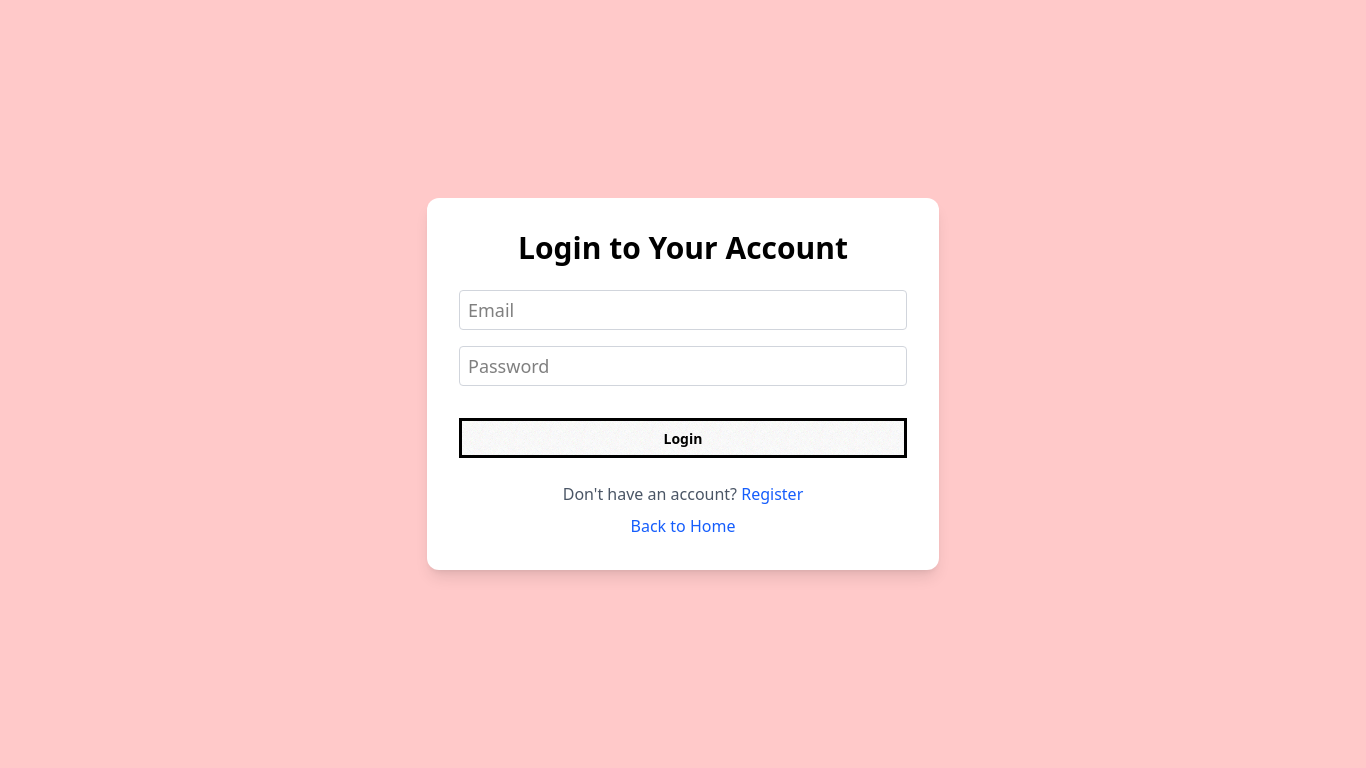
Login Page with API Intercepts › logs in successfully with valid credentials
Type "testuser@example.com" into the field with placeholder "Email" at (683, 310), box [459,290,907,330]
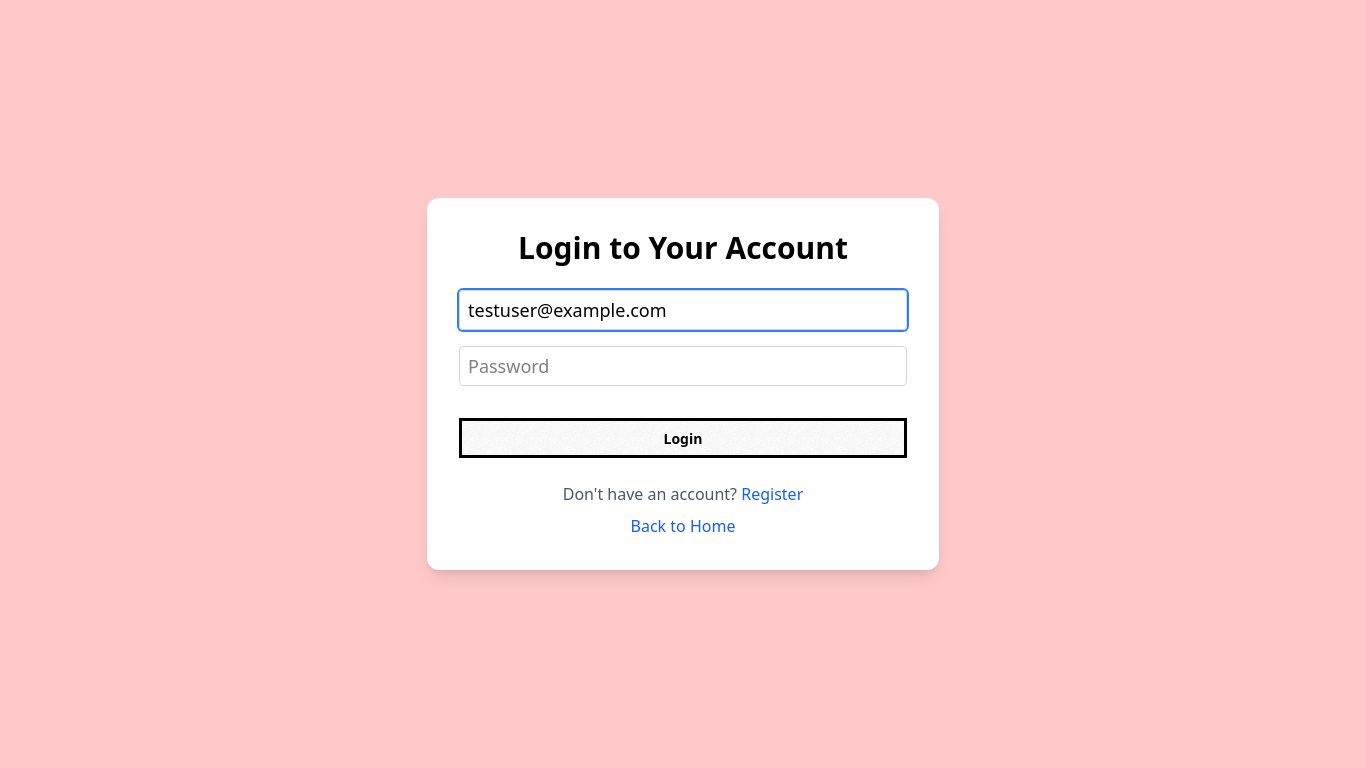
Type "password123" into the password field with placeholder "Password" at (683, 366), box [459,346,907,386]
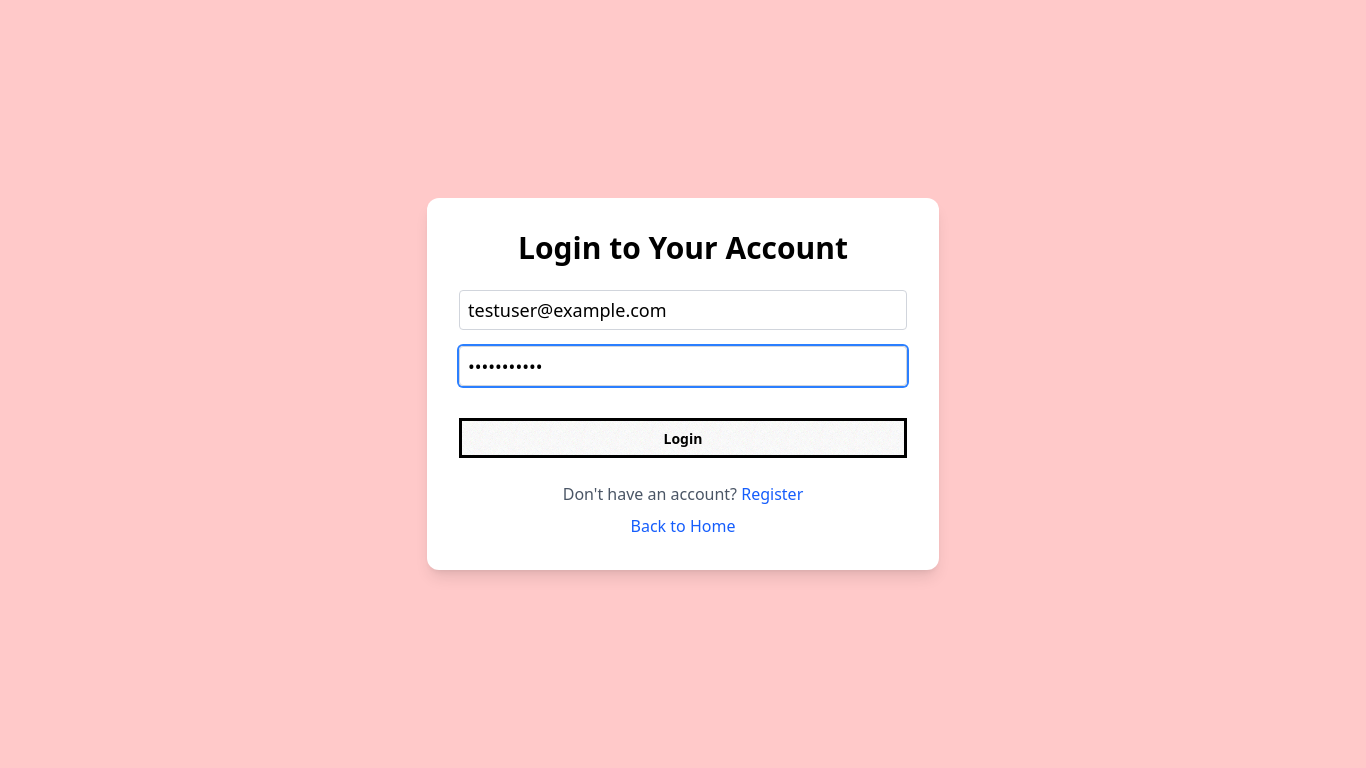
Click the submit button at (683, 438), box [459,418,907,458]
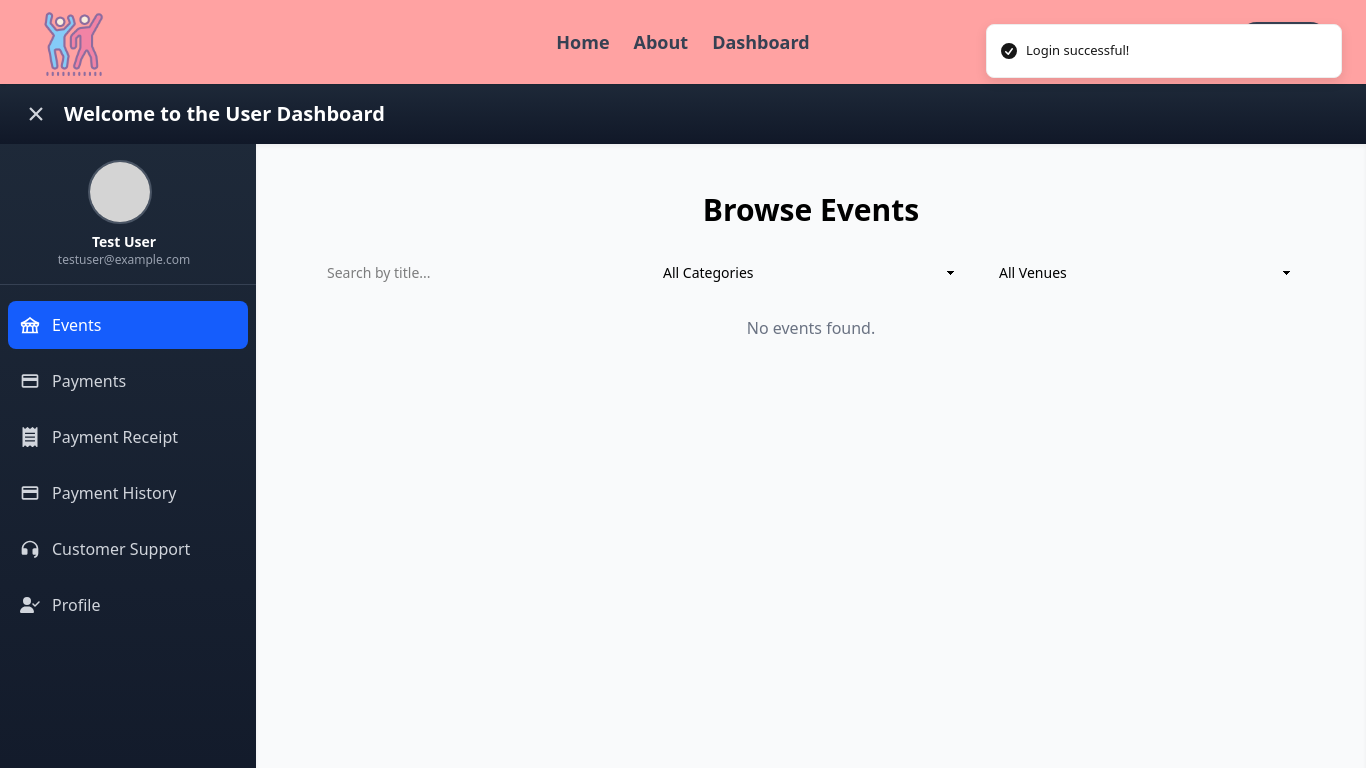
Expected: the text "Welcome" is shown, [64,100,385,127]
